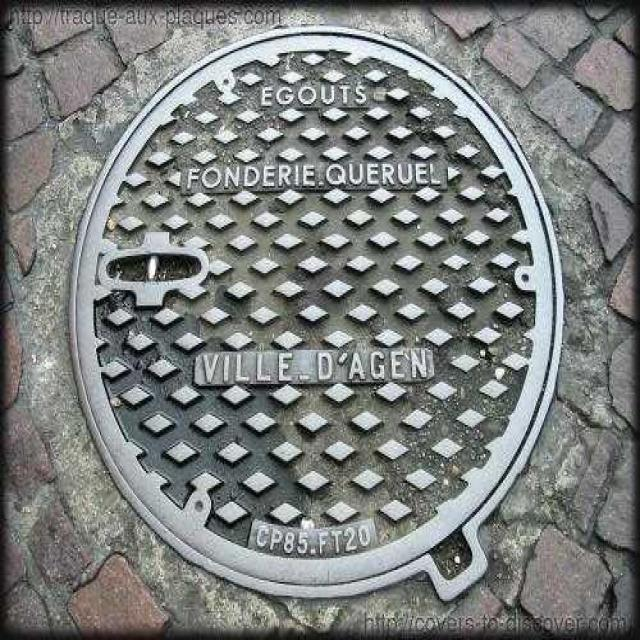manhole: (70, 28, 564, 600)
